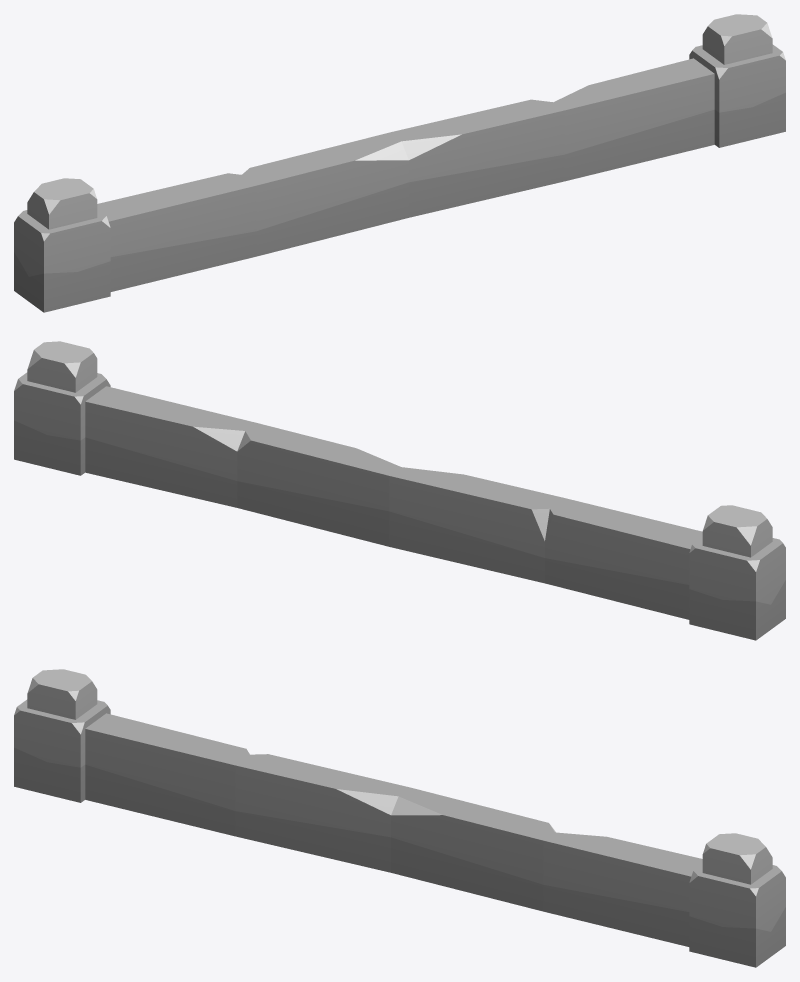
The model's file is stone-fence-large.glb.
3 views of the same model, one above another, from view 1: azimuth 30°, elevation 25°; view 2: azimuth 150°, elevation 25°; view 3: azimuth 330°, elevation 25° (orthographic).
Parts seen in each view (by area): view 1: stone fence large; view 2: stone fence large; view 3: stone fence large.
Part boxes in pixels (x1,y1,x2,y2): stone fence large: [14, 14, 785, 312]; stone fence large: [14, 341, 785, 640]; stone fence large: [14, 669, 785, 967].
Size of the model in its own units: 13.75 by 1.85 by 0.9601.
1 material, 1 textured.
